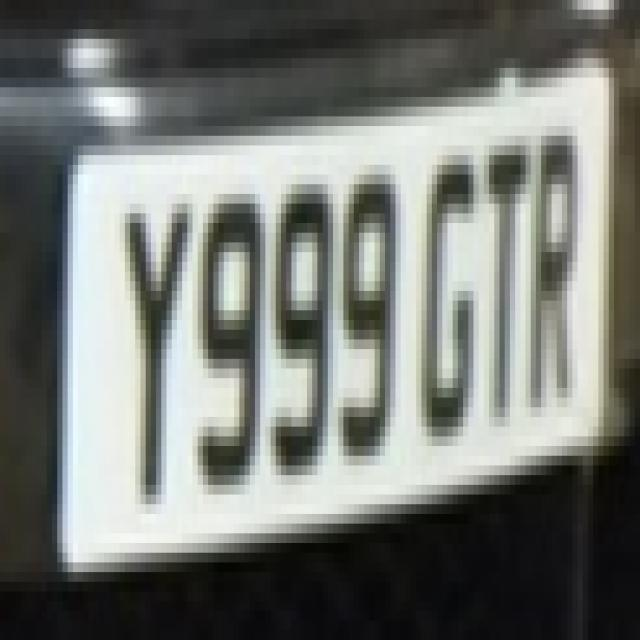LicensePlate: (65, 101, 632, 548)
